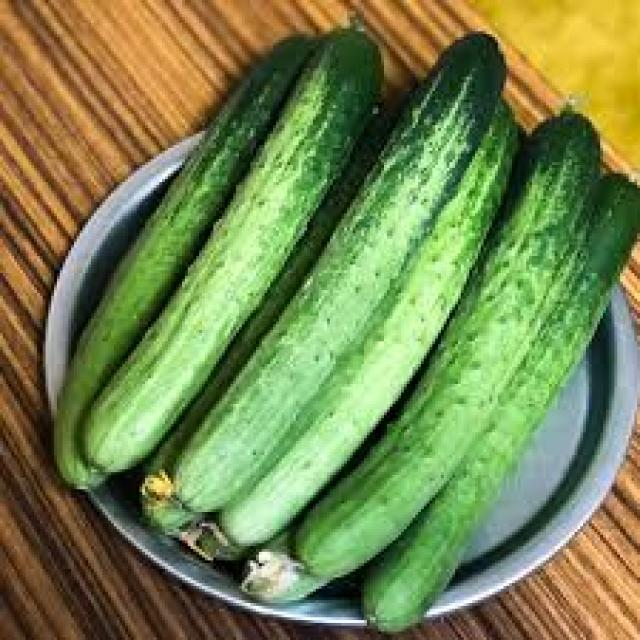Cucumber: (179, 34, 506, 512), (77, 28, 384, 472)
